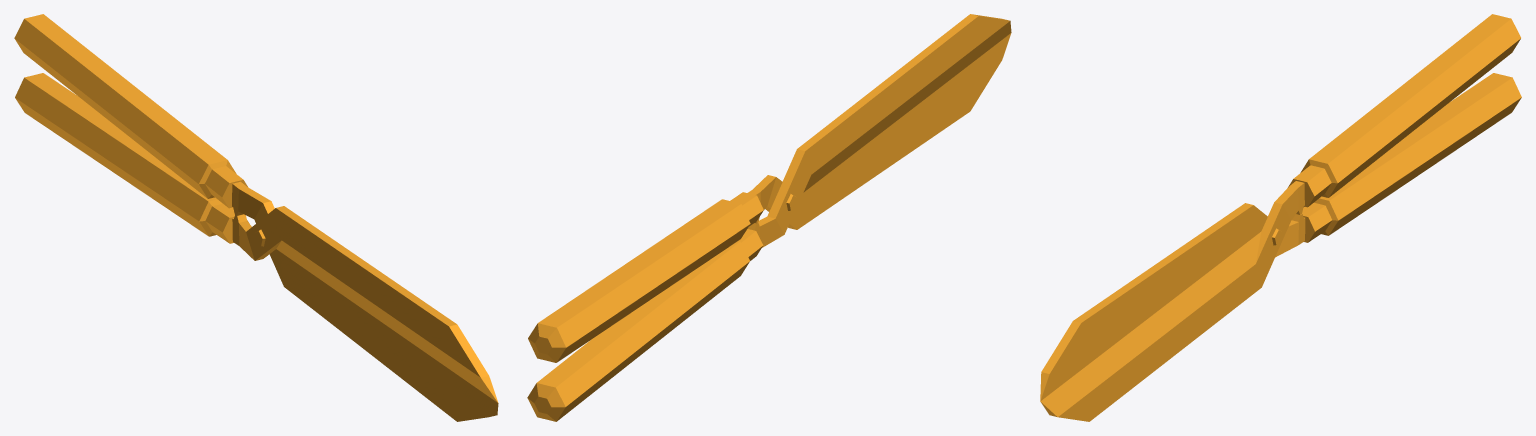
Rendered from SM_Shears_B.fbx.
3 renders of one model, left to right at view 1: azimuth 30°, elevation 25°; view 2: azimuth 150°, elevation 25°; view 3: azimuth 330°, elevation 25°, orthographic.
Visible parts, largest first — view 1: shears-b-bottom, shears-b-top; view 2: shears-b-bottom, shears-b-top; view 3: shears-b-top, shears-b-bottom.
Part boxes in pixels (left/top/right/bottom): shears-b-bottom: left=15, top=73, right=498, bottom=402; shears-b-top: left=14, top=14, right=498, bottom=421; shears-b-bottom: left=527, top=14, right=1011, bottom=421; shears-b-top: left=528, top=33, right=1011, bottom=362; shears-b-top: left=1040, top=14, right=1520, bottom=421; shears-b-bottom: left=1040, top=73, right=1521, bottom=401.
Size of the model in its own units: 0.0192 by 0.0459 by 0.4.
